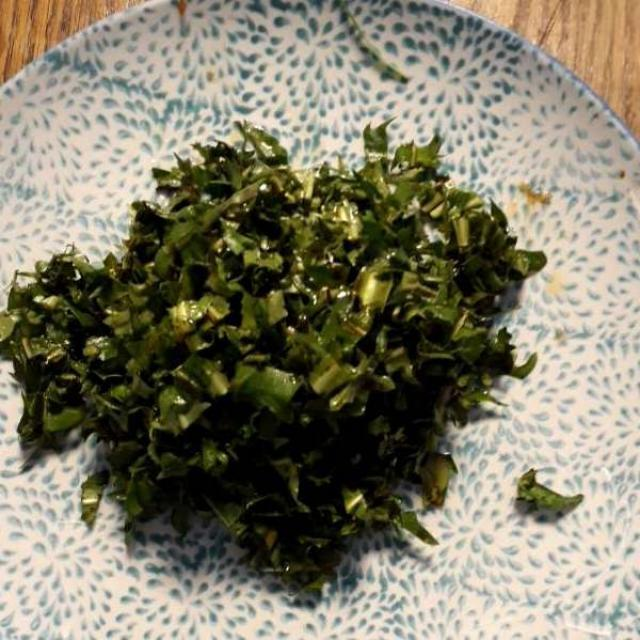salad: (22, 130, 527, 569)
